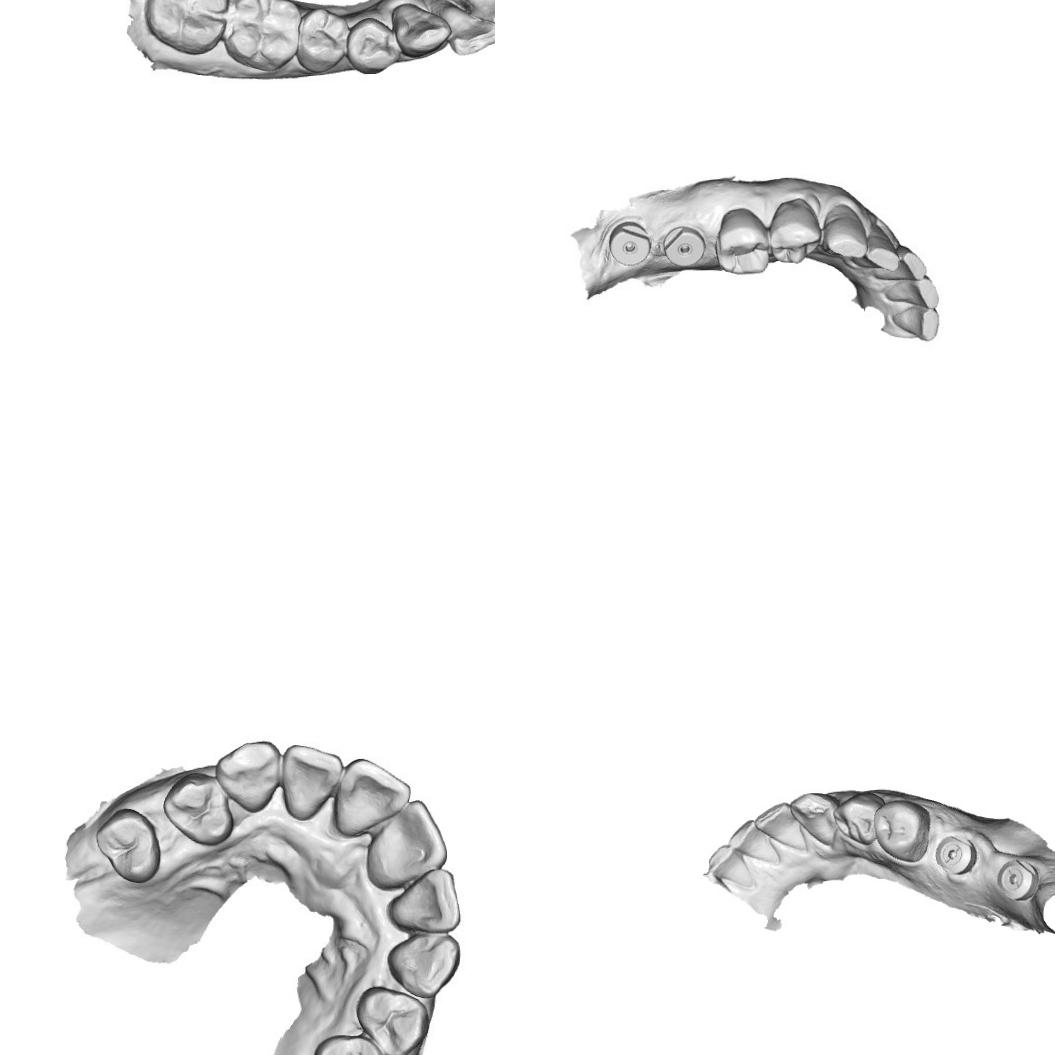canine: (388, 930, 459, 990), (218, 743, 280, 811), (390, 1, 452, 60), (788, 789, 844, 854), (818, 203, 868, 264)
implant: (605, 216, 652, 268), (659, 222, 708, 269)
implant_minus: (931, 832, 977, 878), (994, 858, 1042, 900)
incisor: (366, 799, 443, 884), (334, 754, 407, 835), (390, 868, 462, 937), (284, 741, 342, 824), (440, 0, 495, 58), (730, 818, 784, 870), (704, 842, 753, 888), (862, 222, 902, 275), (756, 800, 805, 842), (890, 302, 940, 342), (887, 274, 941, 310), (892, 242, 928, 282), (457, 0, 495, 29)
molar: (222, 0, 302, 74), (141, 0, 231, 55)
premolar: (94, 801, 162, 887), (361, 984, 426, 1052), (169, 770, 230, 841), (294, 4, 352, 74), (714, 206, 771, 276), (766, 196, 823, 266), (872, 798, 932, 864), (344, 16, 400, 77), (835, 796, 881, 842), (318, 1031, 389, 1055)
